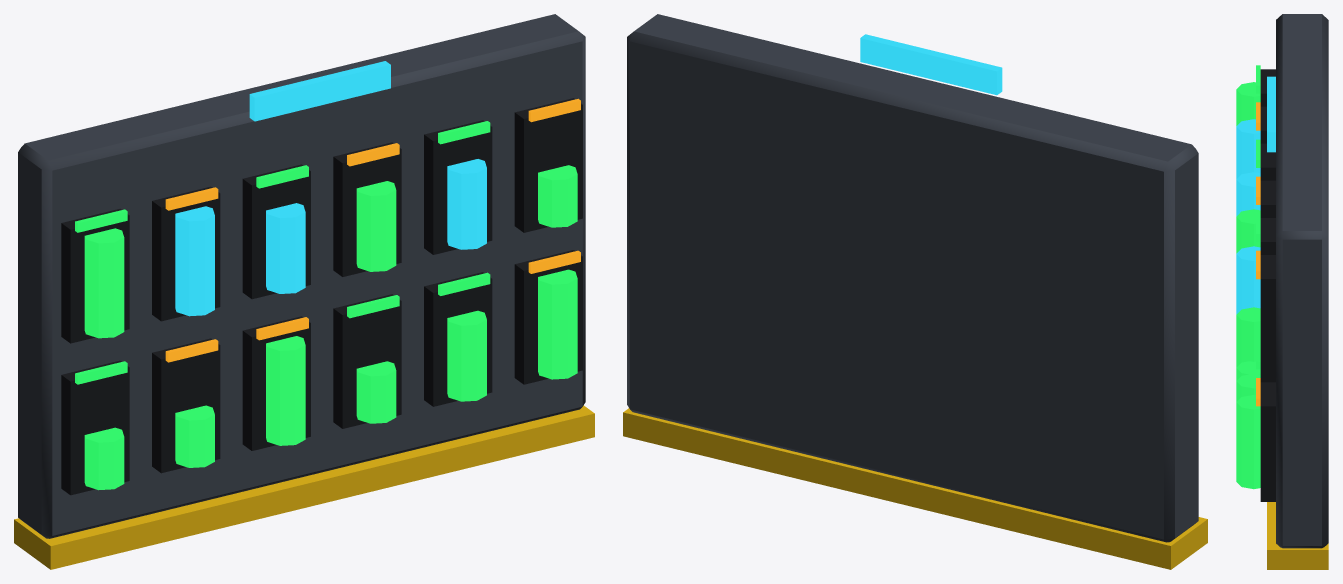
File: weaponrack_cell_charger_rack.glb
3 views of the same model, side by side, from view 1: azimuth 30°, elevation 25°; view 2: azimuth 150°, elevation 25°; view 3: azimuth 270°, elevation 25° (orthographic). The views are drawn at different scales.
Parts seen in each view (by area): view 1: weaponrack_cell_charger_rack; view 2: weaponrack_cell_charger_rack; view 3: weaponrack_cell_charger_rack.
Part boxes in pixels (x1=…): weaponrack_cell_charger_rack: x1=14, y1=14, x2=594, y2=569; weaponrack_cell_charger_rack: x1=623, y1=14, x2=1207, y2=569; weaponrack_cell_charger_rack: x1=1236, y1=14, x2=1328, y2=569.
Size of the model in its own units: 1.2 by 0.89 by 0.21.
